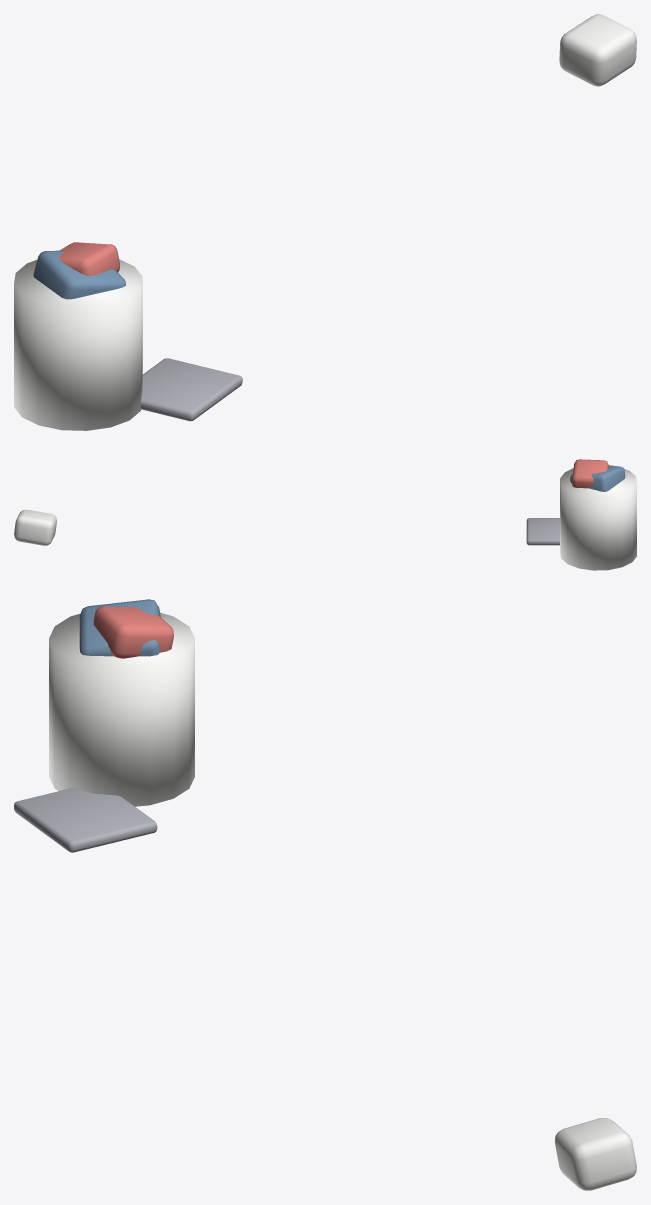
File: Indo_Laundry_Clutter.fbx
3 views of the same model, one above another, from view 1: azimuth 30°, elevation 25°; view 2: azimuth 150°, elevation 25°; view 3: azimuth 270°, elevation 25° (orthographic). The views are drawn at different scales.
Parts seen in each view (by area): view 1: Indo_Floor_Clutter; view 2: Indo_Floor_Clutter; view 3: Indo_Floor_Clutter.
Boxes of the visible parts, box(x1,y1,x2,y2) form: Indo_Floor_Clutter: box(14, 14, 636, 430); Indo_Floor_Clutter: box(14, 459, 636, 570); Indo_Floor_Clutter: box(14, 599, 636, 1190).
Size of the model in its own units: 292 by 52.58 by 171.
